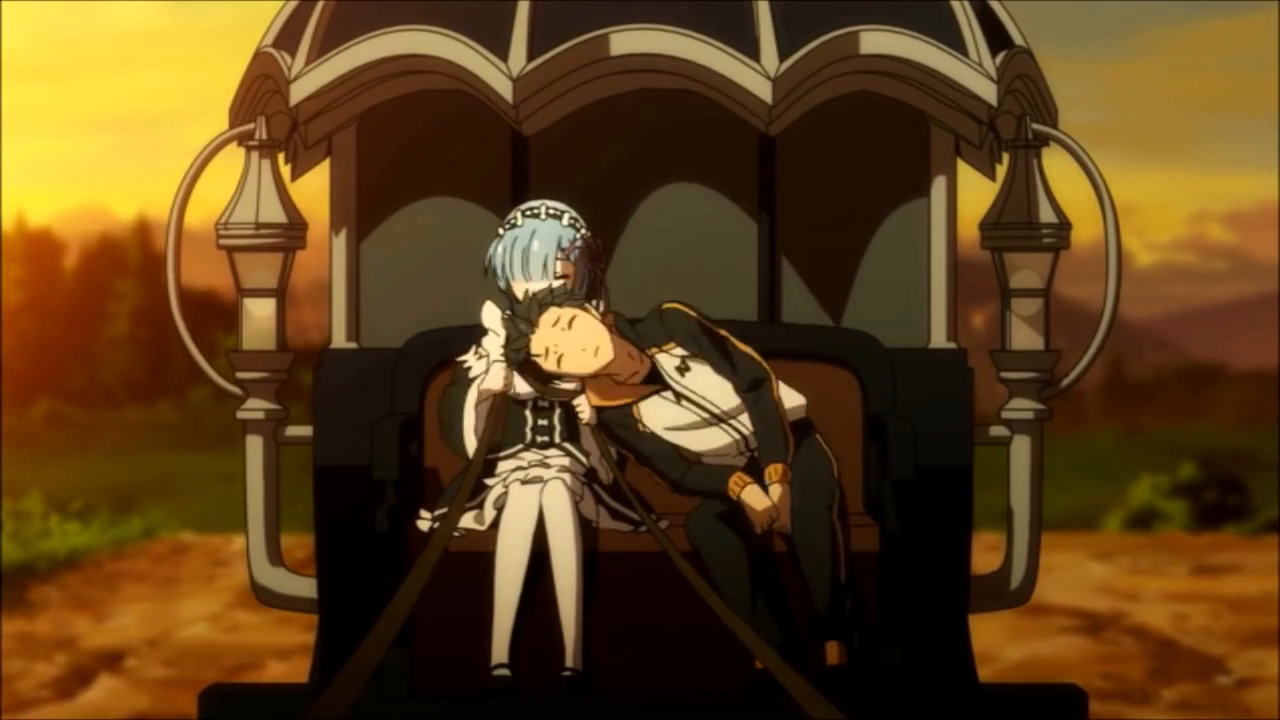REM: (485, 199, 595, 316)
